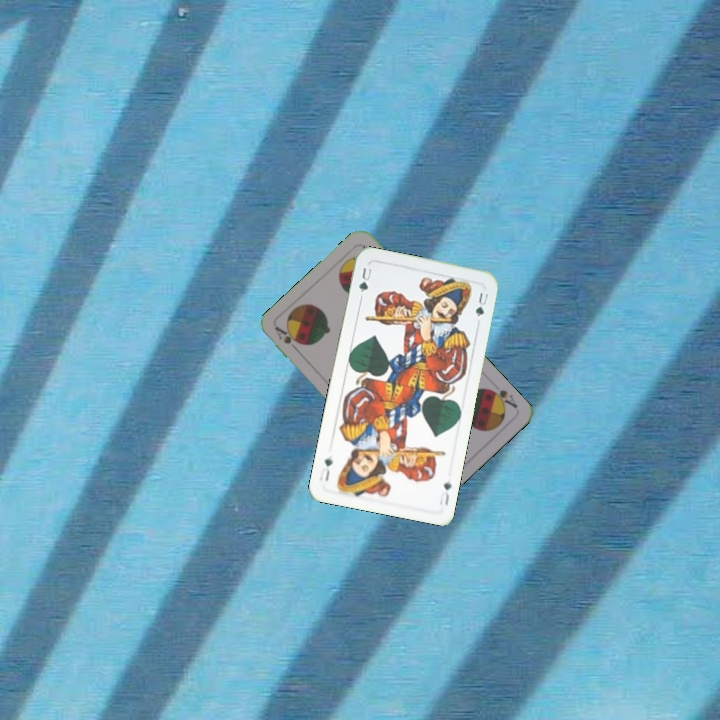GU: (355, 263, 374, 301), (435, 478, 454, 508)
SA: (271, 323, 303, 356), (484, 384, 520, 411)
